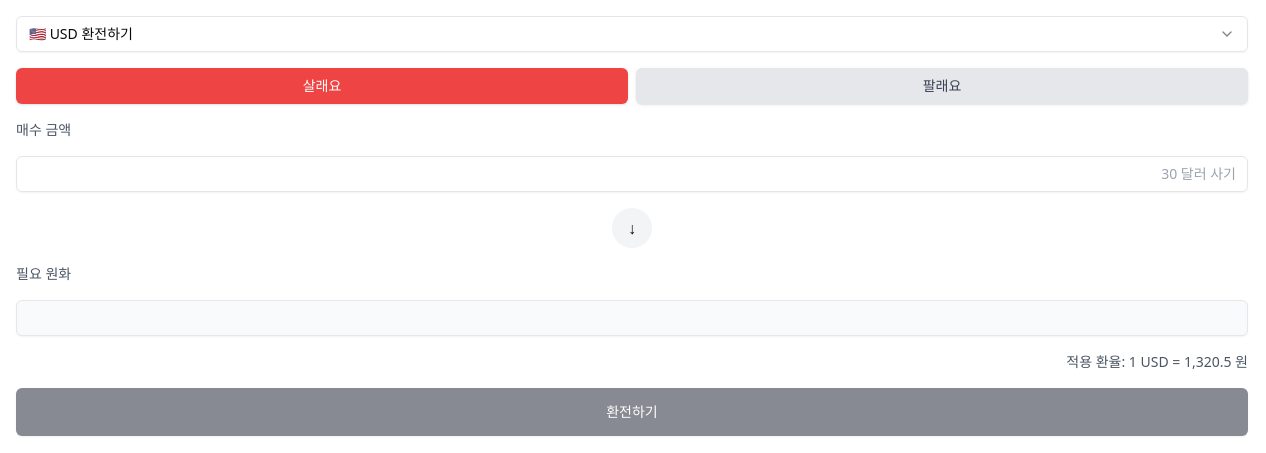
Scenario: ExchangeForm › should switch to sell mode
Click the button "팔래요". click: (942, 86)
box: [636,68,1248,104]
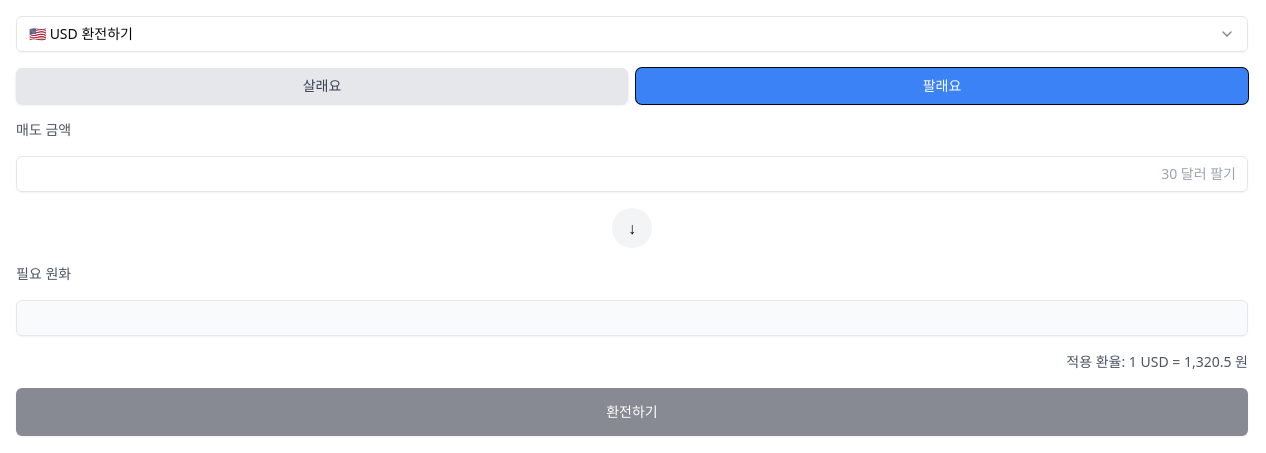
Now the text "매도 금액" is shown, box [16,120,71,139]
